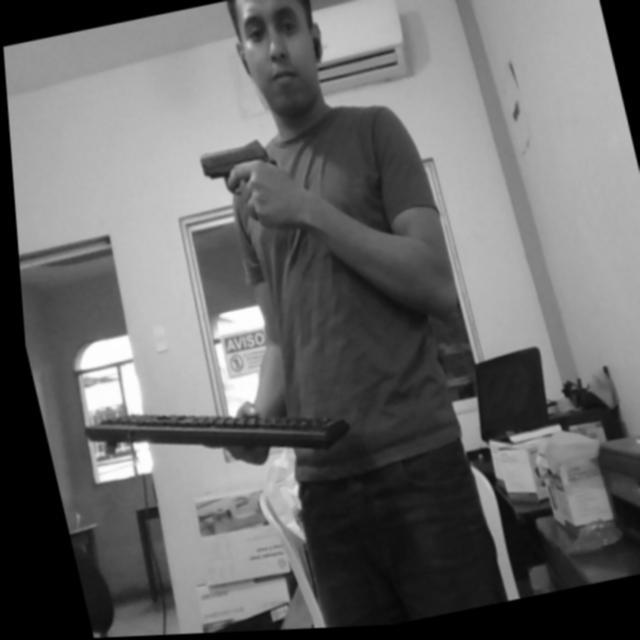weapon: (189, 127, 290, 225)
